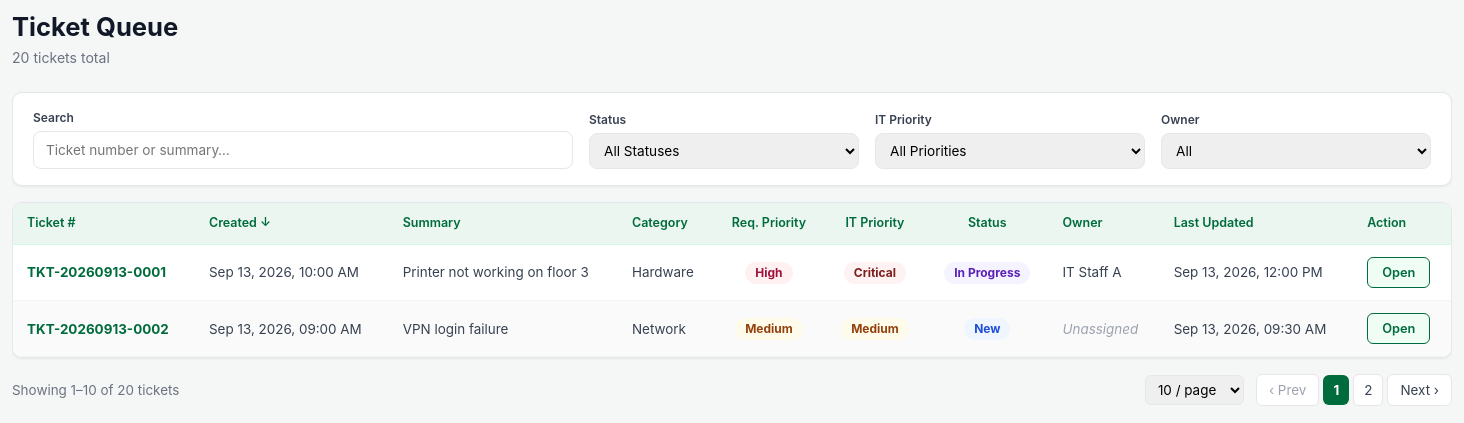
Test case: UI-10 — Pagination retains search and filter states › boundary conditions: Prev button is disabled on first page, Next is disabled on last page
Expected: the text "TKT-20260913-0001" is shown, [13,244,195,301]
Expected: the button "‹ Prev" is disabled, [1256,374,1319,406]
Click the button "Next ›" at x=1420, y=390, box [1387,374,1452,406]
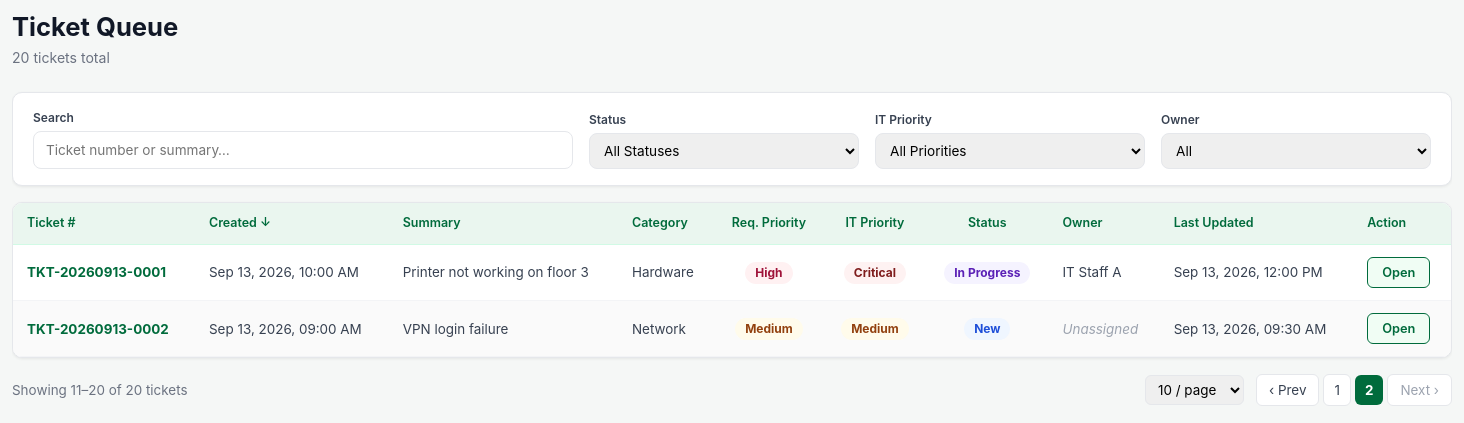
Now the button "‹ Prev" is enabled, box [1256,374,1320,406]
Now the button "Next ›" is disabled, box [1387,374,1452,406]
